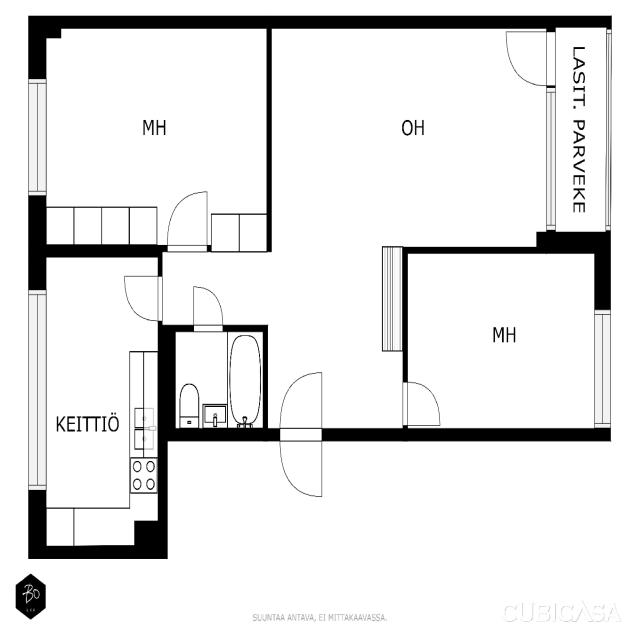door: (272, 366, 333, 503), (493, 22, 566, 92), (155, 184, 216, 258), (391, 372, 447, 434), (116, 268, 167, 332), (183, 277, 224, 337)
window: (15, 277, 58, 503), (590, 302, 625, 438), (19, 64, 52, 206), (538, 77, 566, 233)
zone: (266, 20, 550, 247), (37, 24, 269, 250), (403, 251, 601, 441), (34, 251, 156, 545), (164, 322, 265, 428)
